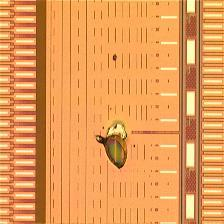PARTICLE: (95, 52, 133, 171)
